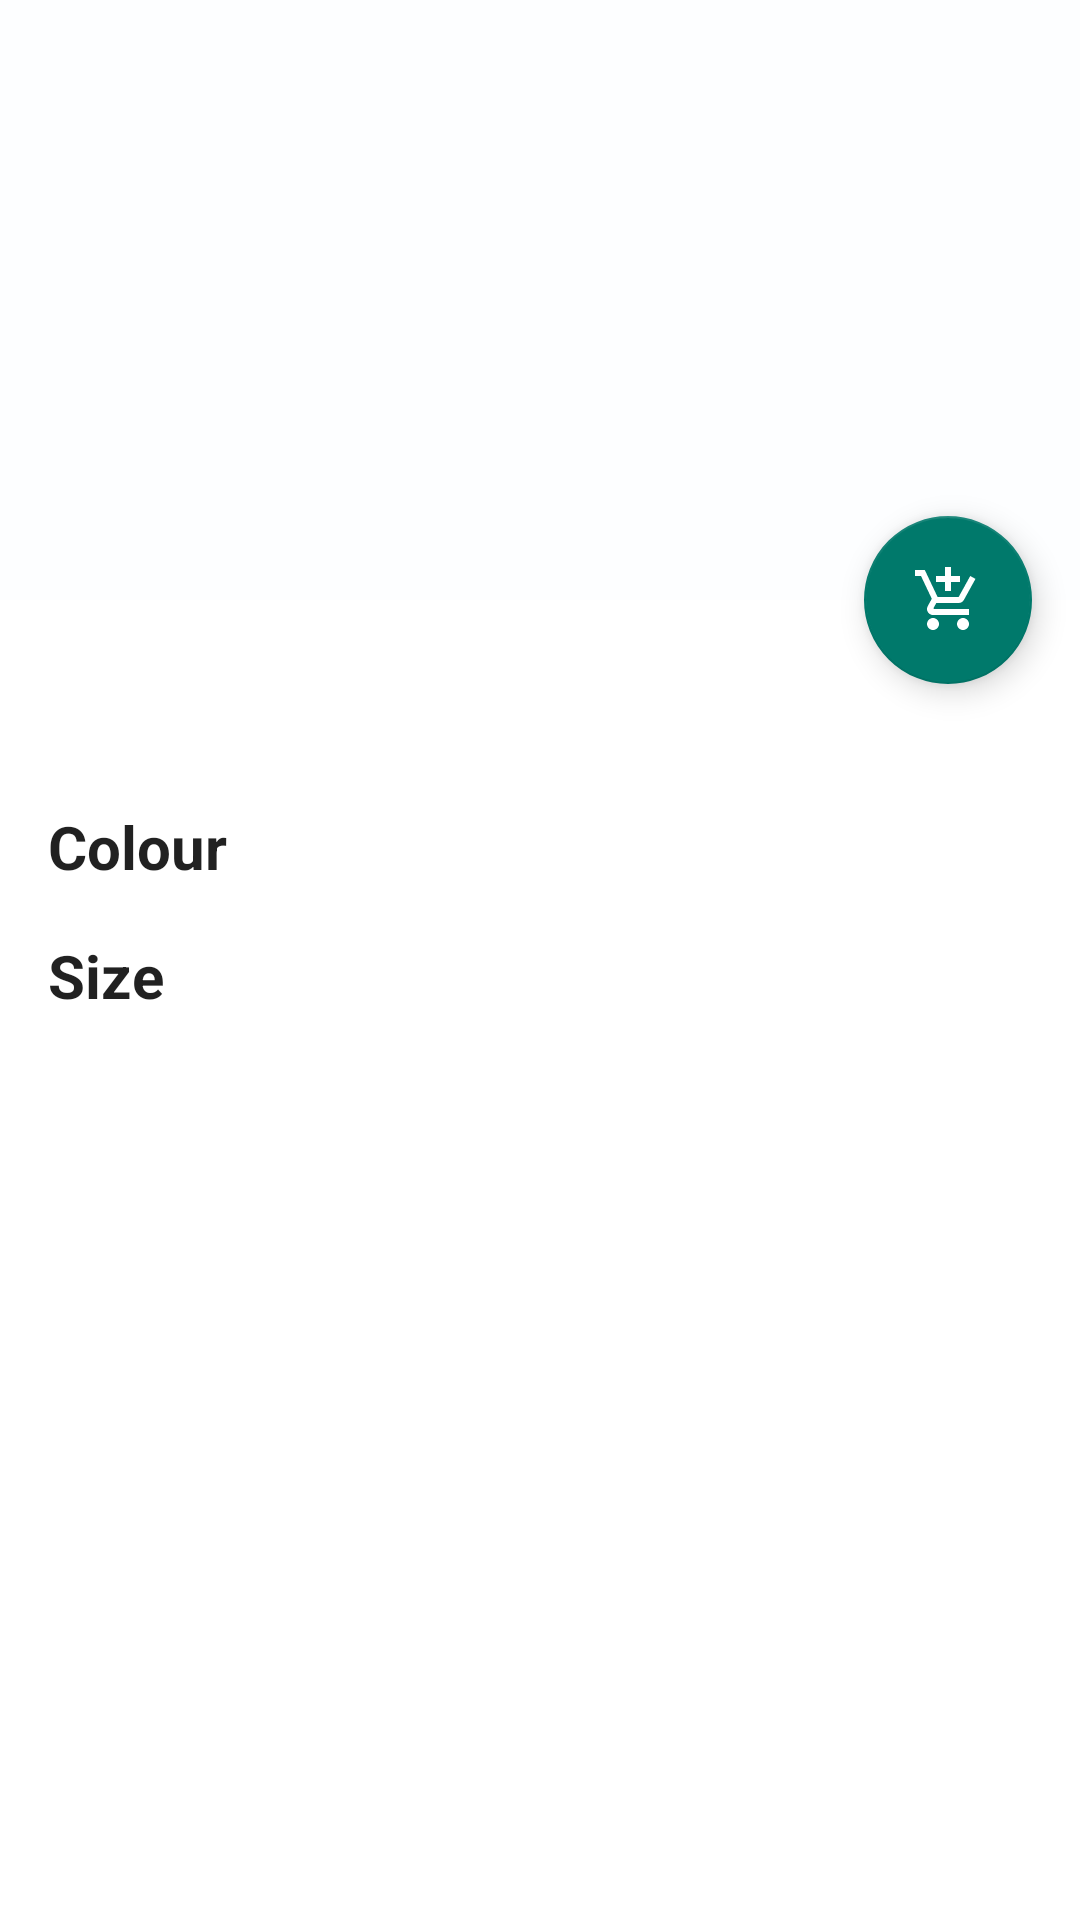

Where to tap for icons on this 1080*1920 app screen, as point (x, y):
add shopping cart: point (948, 600)
